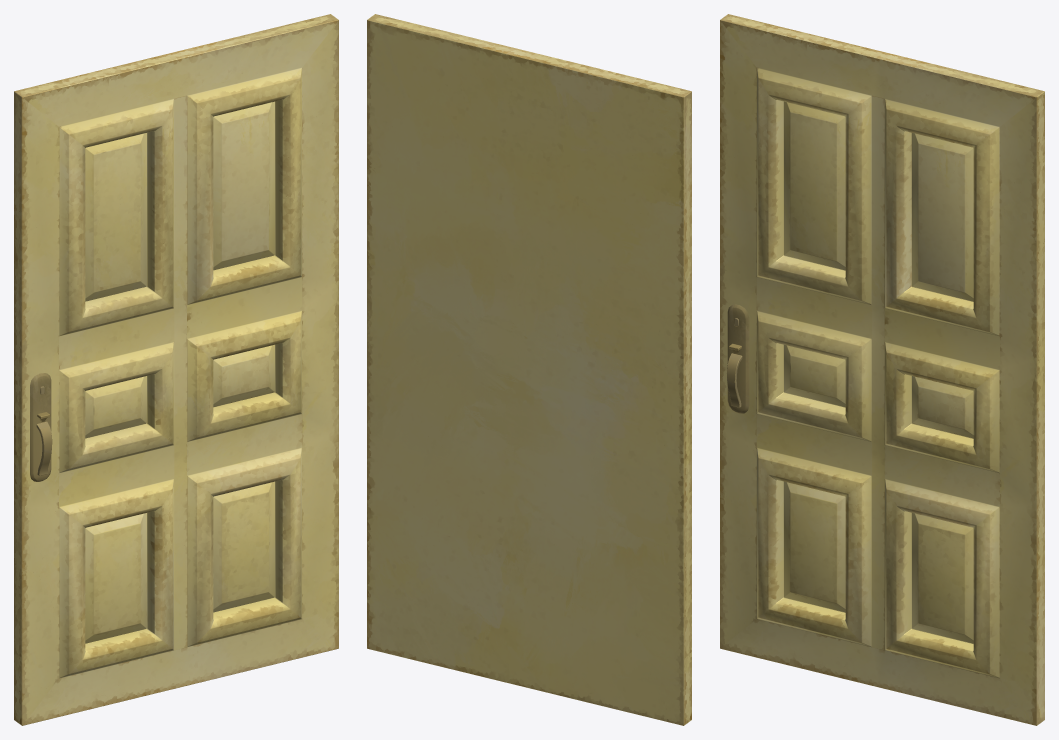
Rendered from Door 3.fbx.
3 views of the same model, side by side, from view 1: azimuth 30°, elevation 25°; view 2: azimuth 150°, elevation 25°; view 3: azimuth 330°, elevation 25° (orthographic).
Visible parts, largest first — view 1: Door 3; view 2: Door 3; view 3: Door 3.
Part boxes in pixels (left/top/right/bottom): Door 3: left=14, top=14, right=338, bottom=725; Door 3: left=367, top=14, right=691, bottom=725; Door 3: left=720, top=14, right=1044, bottom=725.
Size of the model in its own units: 101 by 191 by 8.63.
